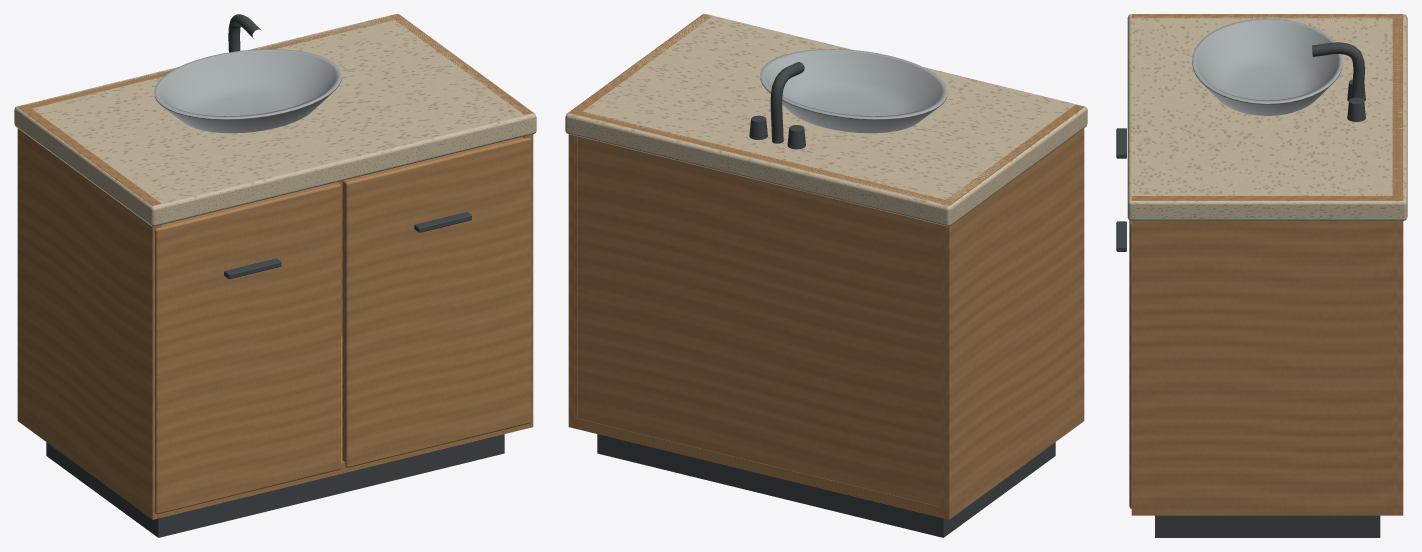
File: sink_campus-497de105d254.glb
The picture shows the model from 3 angles, left to right: view 1: azimuth 30°, elevation 25°; view 2: azimuth 150°, elevation 25°; view 3: azimuth 270°, elevation 25°; orthographic projection.
Visible parts, largest first — view 1: surface_oak, surface_terrazzo, surface_steel, surface_graphite; view 2: surface_oak, surface_terrazzo, surface_steel, surface_graphite; view 3: surface_oak, surface_terrazzo, surface_steel, surface_graphite.
Part boxes in pixels (<box>): surface_oak: <box>17,14,533,519</box>; surface_terrazzo: <box>14,14,536,226</box>; surface_steel: <box>154,49,341,133</box>; surface_graphite: <box>46,14,504,537</box>; surface_oak: <box>568,14,1084,519</box>; surface_terrazzo: <box>565,14,1087,226</box>; surface_steel: <box>760,49,947,133</box>; surface_graphite: <box>597,62,1055,537</box>; surface_oak: <box>1129,14,1403,515</box>; surface_terrazzo: <box>1127,14,1407,220</box>; surface_steel: <box>1192,18,1342,115</box>; surface_graphite: <box>1116,42,1380,537</box>.
Bounding box in the file's own units: 1.05 × 1.07 × 0.6861.
4 materials, 2 textured.
